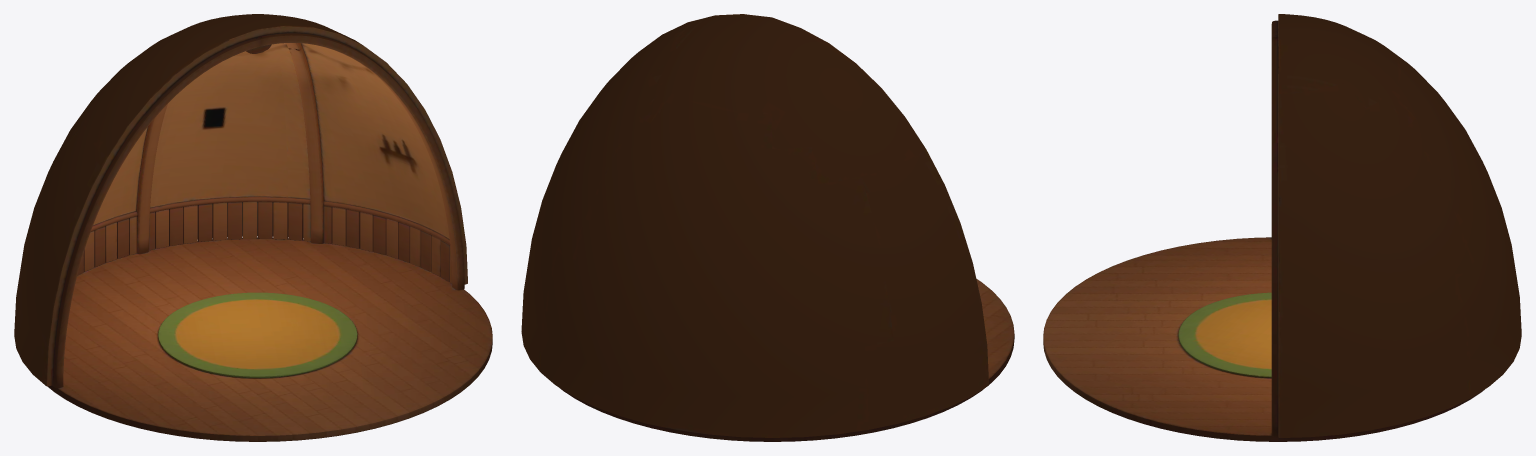
The model's file is room_shell_v2_draco_webp.glb.
The picture shows the model from 3 angles, left to right: view 1: azimuth 30°, elevation 25°; view 2: azimuth 150°, elevation 25°; view 3: azimuth 270°, elevation 25°; orthographic projection. The views are drawn at different scales.
Visible parts, largest first — view 1: room_dome, room_floor, round_rug, room_wainscot, room_rib_05, room_rib_01, room_rib_02, room_wainscot_rail, room_rib_03; view 2: room_dome, room_floor; view 3: room_dome, room_floor, round_rug, room_rib_01.
Part boxes in pixels (left/top/right/bottom): room_dome: left=14, top=14, right=467, bottom=386; room_floor: left=47, top=237, right=492, bottom=441; round_rug: left=158, top=292, right=357, bottom=378; room_wainscot: left=77, top=201, right=452, bottom=283; room_rib_05: left=52, top=37, right=260, bottom=388; room_rib_01: left=258, top=32, right=464, bottom=290; room_rib_02: left=260, top=37, right=323, bottom=243; room_wainscot_rail: left=90, top=196, right=450, bottom=245; room_rib_03: left=136, top=104, right=167, bottom=253; room_dome: left=521, top=14, right=988, bottom=437; room_floor: left=560, top=279, right=1014, bottom=441; room_dome: left=1278, top=14, right=1521, bottom=437; room_floor: left=1043, top=237, right=1484, bottom=441; round_rug: left=1178, top=292, right=1271, bottom=377; room_rib_01: left=1271, top=37, right=1278, bottom=436.
Size of the model in its own units: 6.74 by 4.78 by 6.62.
1 material, 1 textured.
